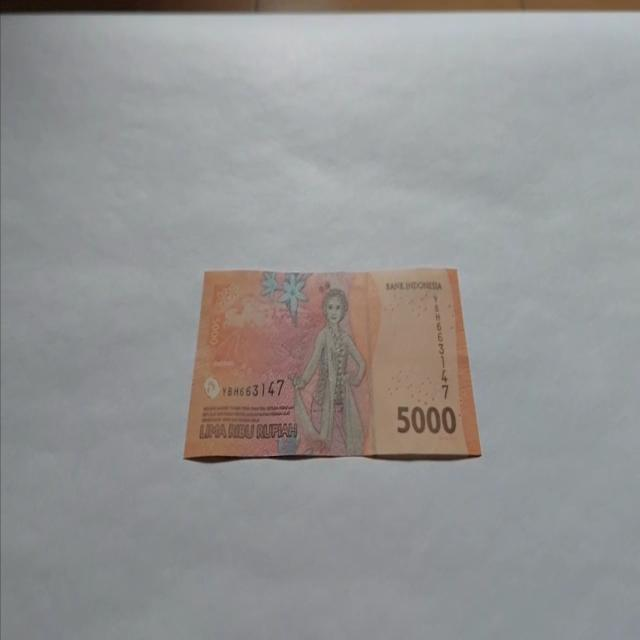lima ribu rupiah: (183, 265, 482, 463), (287, 286, 367, 456)
